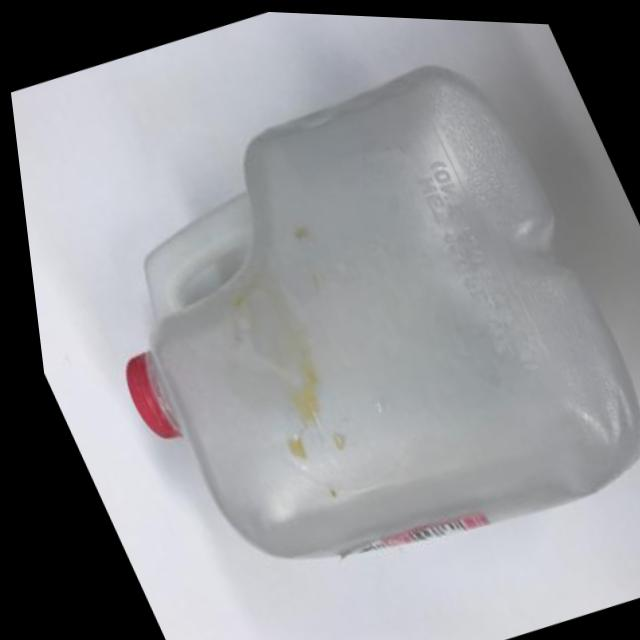plastic: (7, 9, 640, 632)
